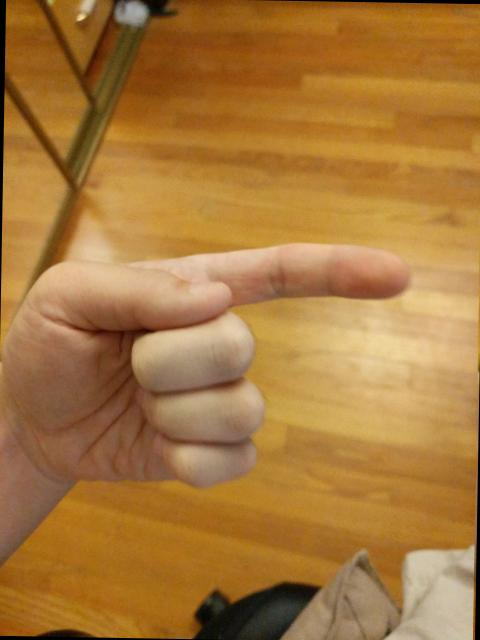G: (0, 231, 420, 499)
